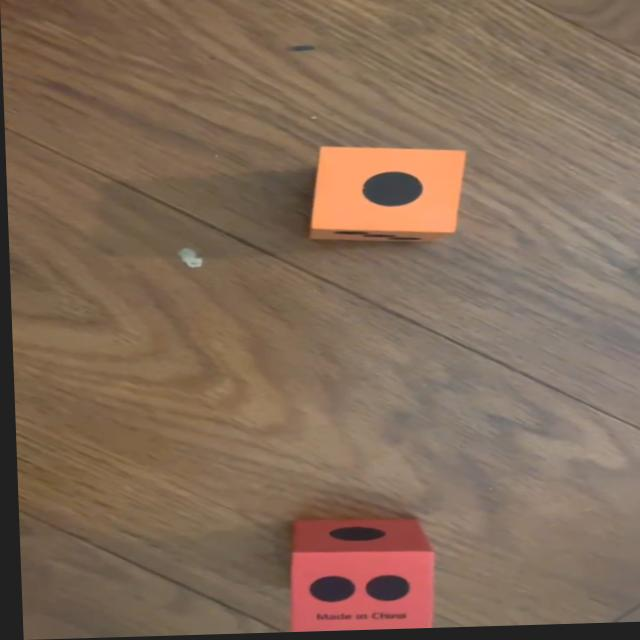red_block: (285, 516, 433, 634)
